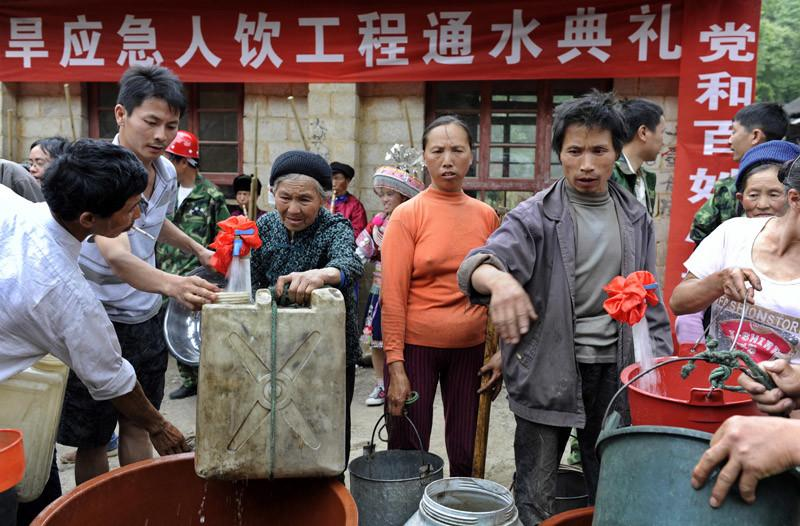helmet: (166, 130, 202, 161)
